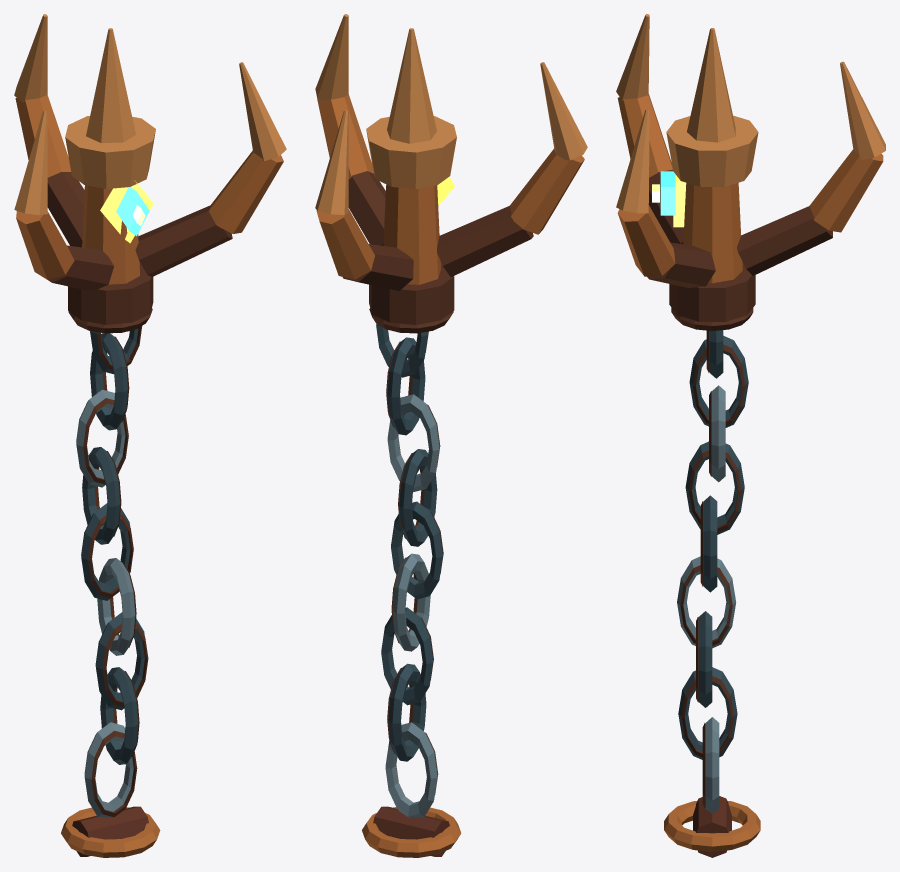
Rendered from Enterhaken_von_Ahnhoehe.glb.
The picture shows the model from 3 angles, left to right: view 1: azimuth 30°, elevation 25°; view 2: azimuth 150°, elevation 25°; view 3: azimuth 270°, elevation 25°; orthographic projection.
Parts seen in each view (by area): view 1: Hook_Collar_Upper, Claw_1_Base, Hook_Central_Spike, Hook_Collar_Lower, Claw_1_Arm, Hook_Shaft, Claw_2_Arm, Hand_Chain_Ring, Claw_3_Base, Claw_3_Arm, Hook_Tip_02, Chain_Link_06_Ring (+19 smaller); view 2: Hook_Collar_Upper, Hook_Shaft, Claw_2_Base, Hook_Central_Spike, Hook_Collar_Lower, Claw_2_Arm, Claw_3_Arm, Chain_Link_01_Ring, Hand_Chain_Ring, Claw_1_Base, Claw_1_Arm, Hook_Tip_03 (+13 smaller); view 3: Hook_Collar_Upper, Hook_Shaft, Claw_3_Base, Hook_Central_Spike, Hook_Collar_Lower, Claw_3_Arm, Hand_Chain_Ring, Claw_1_Arm, Claw_2_Arm, Hook_Tip_01, Hook_Tip_03, Claw_1_Base (+19 smaller).
Boxes of the visible parts, x1=… form: Hook_Collar_Upper: x1=65, y1=116, x2=155, y2=188; Claw_1_Base: x1=135, y1=205, x2=232, y2=276; Hook_Central_Spike: x1=86, y1=28, x2=135, y2=143; Hook_Collar_Lower: x1=68, y1=262, x2=153, y2=324; Claw_1_Arm: x1=208, y1=150, x2=283, y2=233; Hook_Shaft: x1=82, y1=185, x2=139, y2=284; Claw_2_Arm: x1=16, y1=211, x2=74, y2=279; Hand_Chain_Ring: x1=61, y1=807, x2=160, y2=857; Claw_3_Base: x1=47, y1=172, x2=84, y2=247; Claw_3_Arm: x1=15, y1=95, x2=71, y2=177; Hook_Tip_02: x1=14, y1=110, x2=47, y2=215; Chain_Link_06_Ring: x1=82, y1=447, x2=120, y2=544; Hook_Collar_Upper: x1=366, y1=116, x2=456, y2=188; Hook_Shaft: x1=383, y1=184, x2=440, y2=284; Claw_2_Base: x1=437, y1=205, x2=533, y2=276; Hook_Central_Spike: x1=387, y1=28, x2=436, y2=143; Hook_Collar_Lower: x1=369, y1=261, x2=454, y2=324; Claw_2_Arm: x1=510, y1=148, x2=584, y2=234; Claw_3_Arm: x1=316, y1=209, x2=374, y2=279; Chain_Link_01_Ring: x1=385, y1=722, x2=437, y2=817; Hand_Chain_Ring: x1=362, y1=807, x2=461, y2=857; Claw_1_Base: x1=348, y1=171, x2=385, y2=245; Claw_1_Arm: x1=317, y1=94, x2=373, y2=179; Hook_Tip_03: x1=315, y1=110, x2=348, y2=214; Hook_Collar_Upper: x1=666, y1=115, x2=758, y2=186; Hook_Shaft: x1=683, y1=182, x2=742, y2=283; Claw_3_Base: x1=737, y1=206, x2=832, y2=275; Hook_Central_Spike: x1=687, y1=28, x2=735, y2=142; Hook_Collar_Lower: x1=669, y1=261, x2=755, y2=321; Claw_3_Arm: x1=809, y1=149, x2=883, y2=232; Hand_Chain_Ring: x1=664, y1=801, x2=760, y2=851; Claw_1_Arm: x1=617, y1=205, x2=675, y2=276; Claw_2_Arm: x1=617, y1=94, x2=672, y2=177; Hook_Tip_01: x1=616, y1=109, x2=649, y2=213; Hook_Tip_03: x1=840, y1=61, x2=885, y2=159; Claw_1_Base: x1=647, y1=242, x2=715, y2=287.
Size of what is drawn, in the model's own units: 0.5333 by 1.56 by 0.4681.
